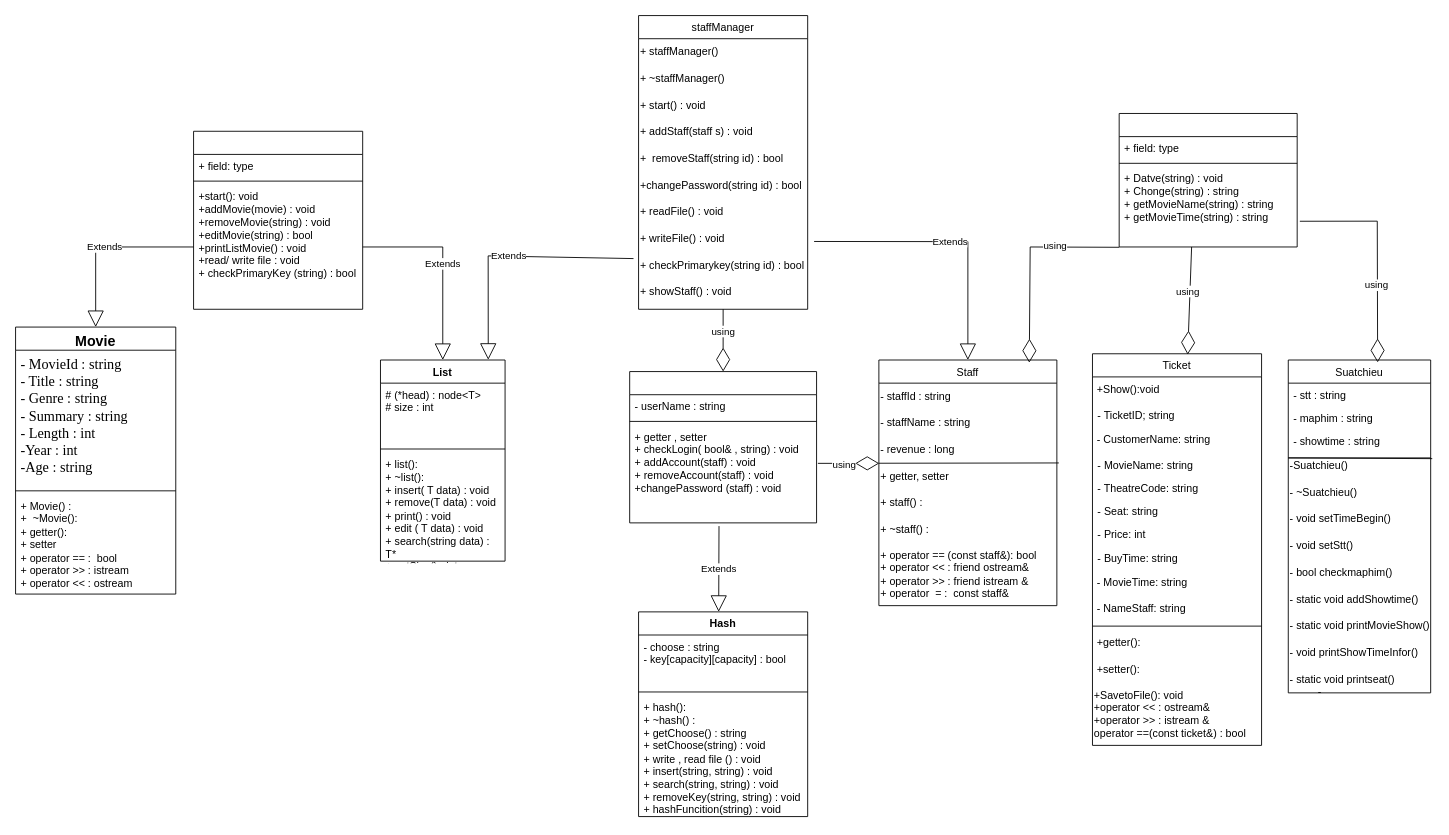
Some shapes in this 1449 by 835 pixel diagram are drawn without their labels. The shapes that lost their labels are listed below. From the top down, each one's box as (x1, y1, x2, y2) in pixels, then its label:
(1118, 113, 1297, 247): Booking
(193, 130, 363, 309): MovieManagement
(629, 371, 817, 523): AccManagement
